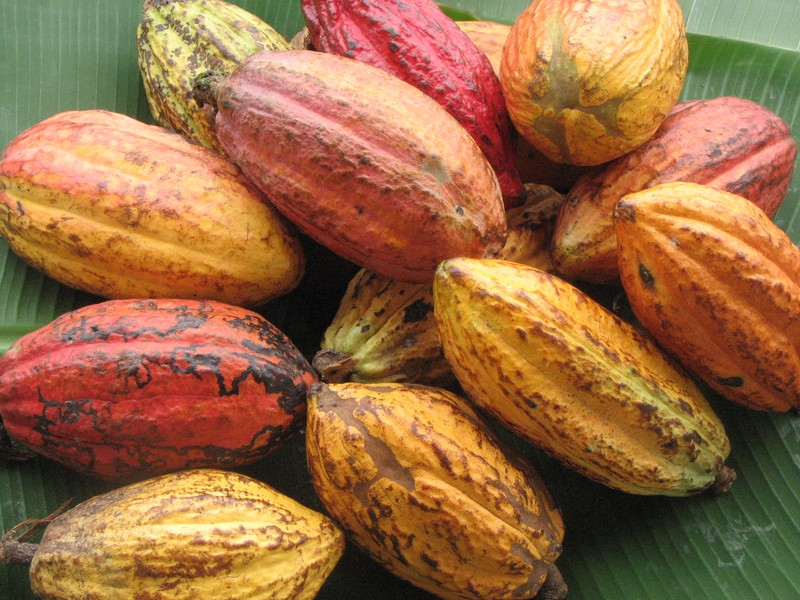Cacaopod: (207, 48, 508, 266), (301, 379, 575, 599), (610, 180, 800, 415)
